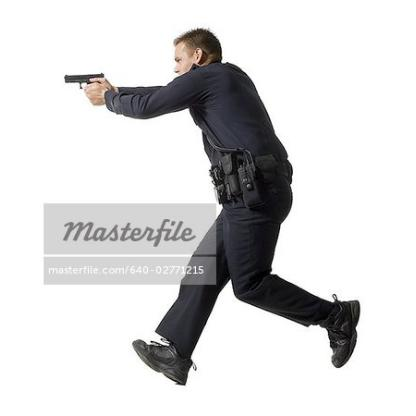gun: (60, 70, 112, 106)
